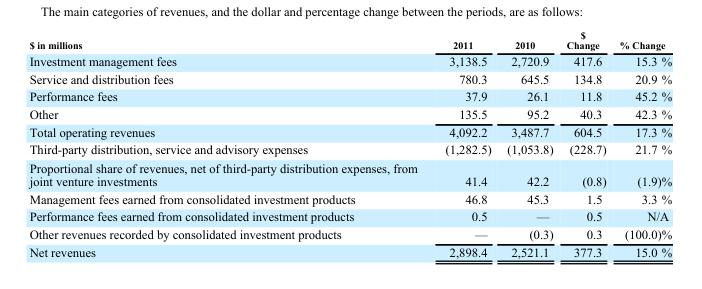table: (28, 28, 671, 258)
table column: (28, 28, 430, 258), (430, 28, 498, 258), (498, 28, 559, 258), (612, 28, 671, 258), (559, 28, 612, 258)
table column header: (28, 28, 671, 52)
table row: (28, 158, 671, 189), (28, 28, 671, 52), (28, 69, 671, 87), (28, 104, 671, 122), (28, 122, 671, 140), (28, 140, 671, 158), (28, 189, 671, 207), (28, 224, 671, 242), (28, 52, 671, 69), (28, 87, 671, 104), (28, 207, 671, 224), (28, 242, 671, 258)
